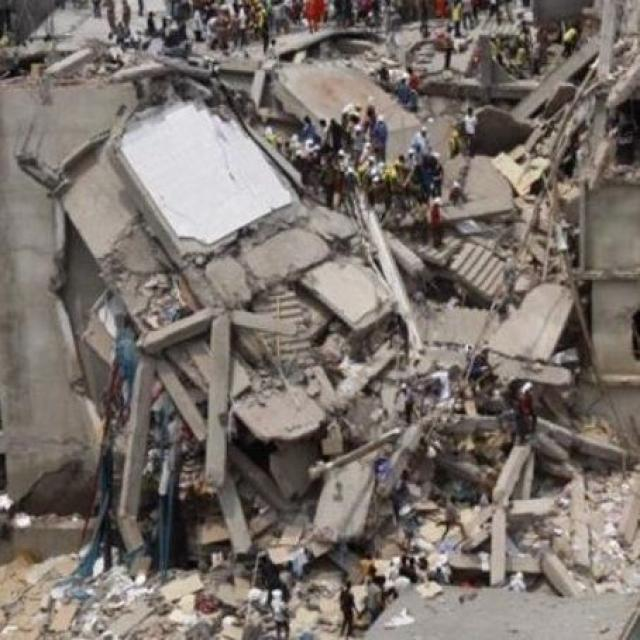collapsed_building: (0, 74, 568, 562)
